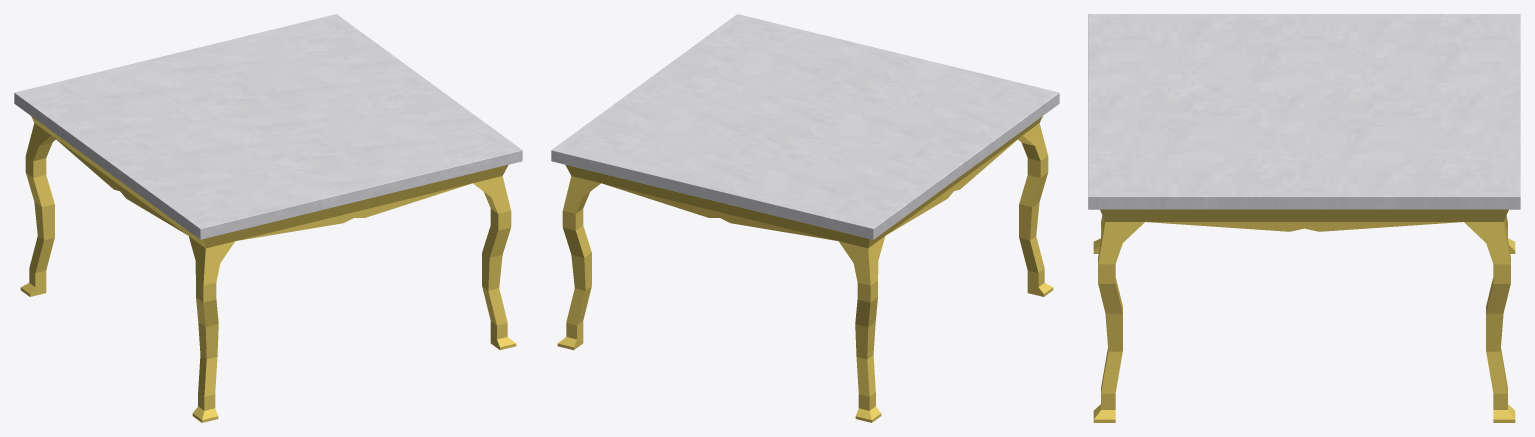
The model's file is sweethome3d-contributions-marble-table-415.glb.
The picture shows the model from 3 angles, left to right: view 1: azimuth 30°, elevation 25°; view 2: azimuth 150°, elevation 25°; view 3: azimuth 270°, elevation 25°; orthographic projection. The views are drawn at different scales.
Visible parts, largest first — view 1: 2_2_2, 1_1_1; view 2: 2_2_2, 1_1_1; view 3: 2_2_2, 1_1_1.
Boxes of the visible parts, x1,y1,x2,y2 form: 2_2_2: [14, 14, 522, 239]; 1_1_1: [20, 116, 516, 422]; 2_2_2: [551, 14, 1059, 239]; 1_1_1: [557, 116, 1053, 422]; 2_2_2: [1088, 14, 1520, 209]; 1_1_1: [1093, 209, 1515, 422].
Size of the model in its own units: 120 by 70 by 120.
Materials: 2 (1 with a texture image).
